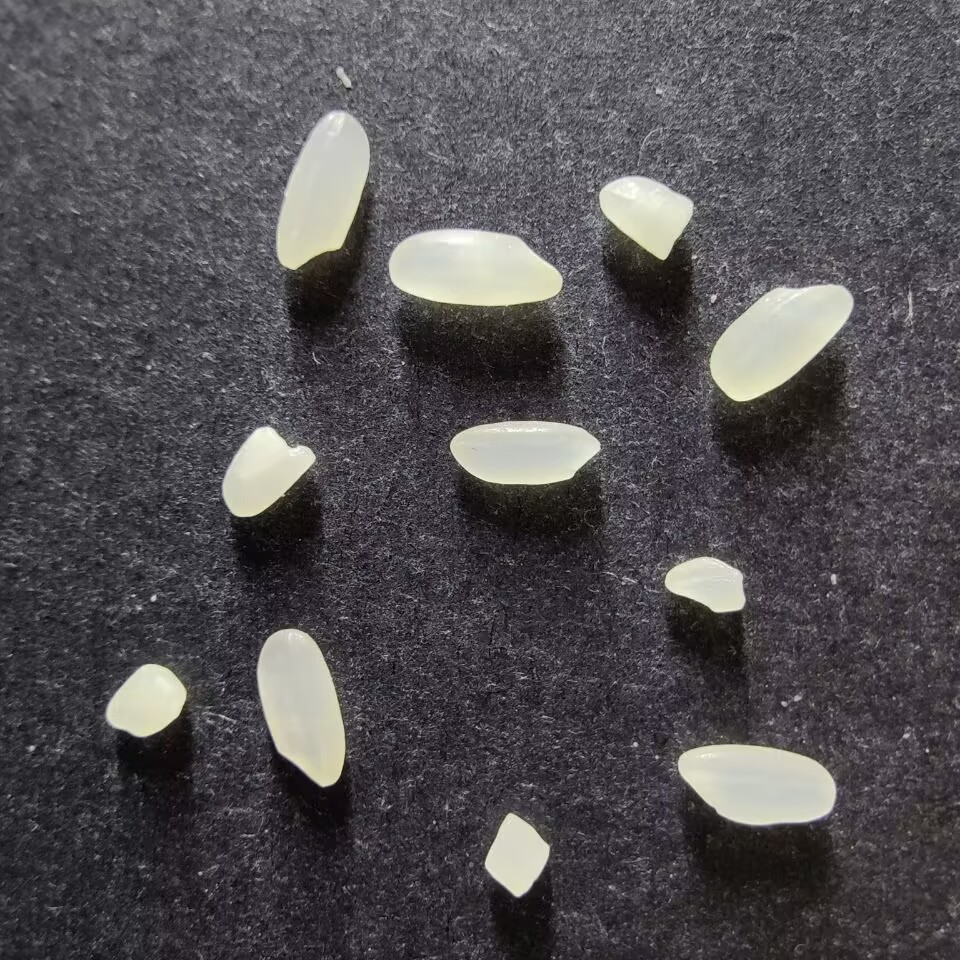broken: (221, 424, 317, 519), (598, 176, 694, 261), (105, 661, 187, 738), (482, 810, 551, 899), (663, 555, 746, 614)
rice: (707, 283, 853, 403), (275, 110, 371, 271), (255, 627, 346, 788), (387, 228, 562, 307), (676, 743, 835, 826), (448, 419, 602, 487)
